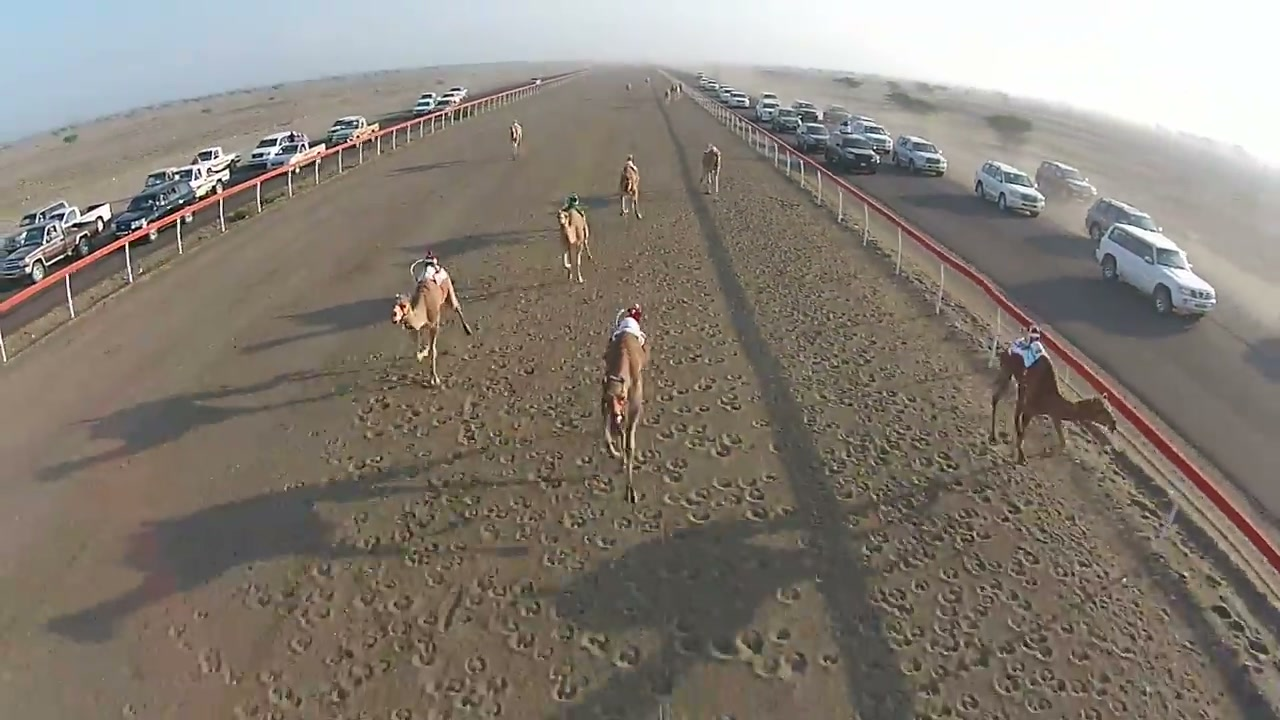animal_foot_print: (142, 163, 1279, 719)
